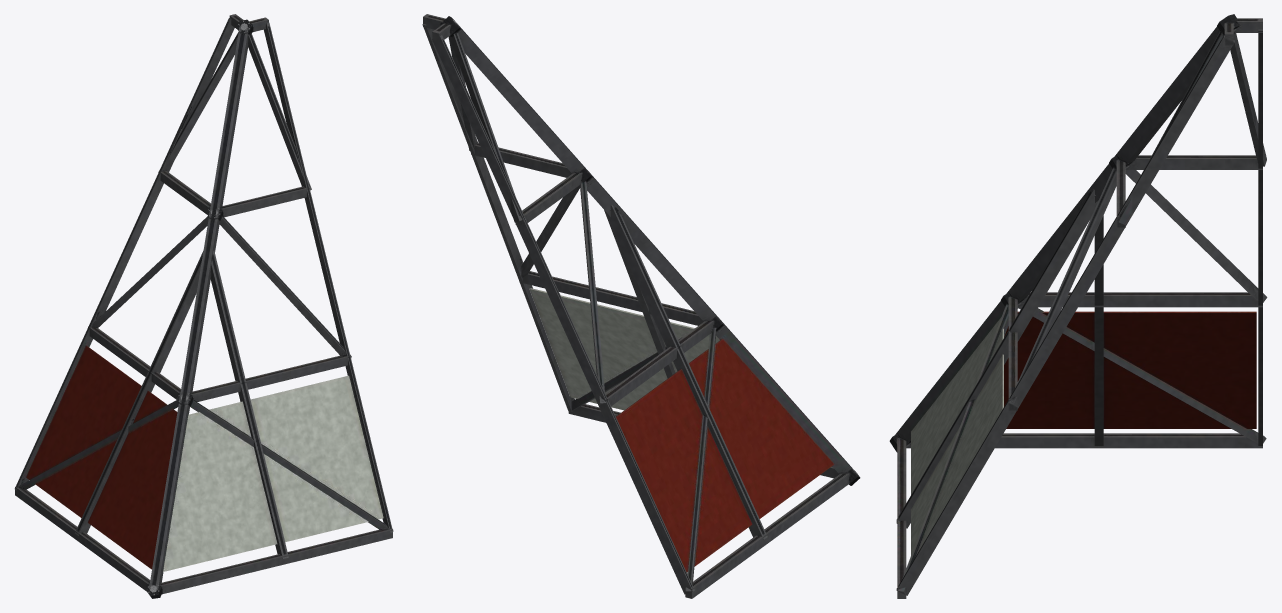
The model's file is dome_slope_hip.glb.
3 renders of one model, left to right at view 1: azimuth 30°, elevation 25°; view 2: azimuth 150°, elevation 25°; view 3: azimuth 270°, elevation 25°, orthographic. The views are drawn at different scales.
Parts seen in each view (by area): view 1: dome_slope_hip; view 2: dome_slope_hip; view 3: dome_slope_hip.
Part boxes in pixels (x1,y1,x2,y2): dome_slope_hip: (14, 14, 393, 598); dome_slope_hip: (422, 14, 860, 598); dome_slope_hip: (889, 14, 1267, 598).
Size of the model in its own units: 9.24 by 15.53 by 9.24.
1 material, 1 textured.
